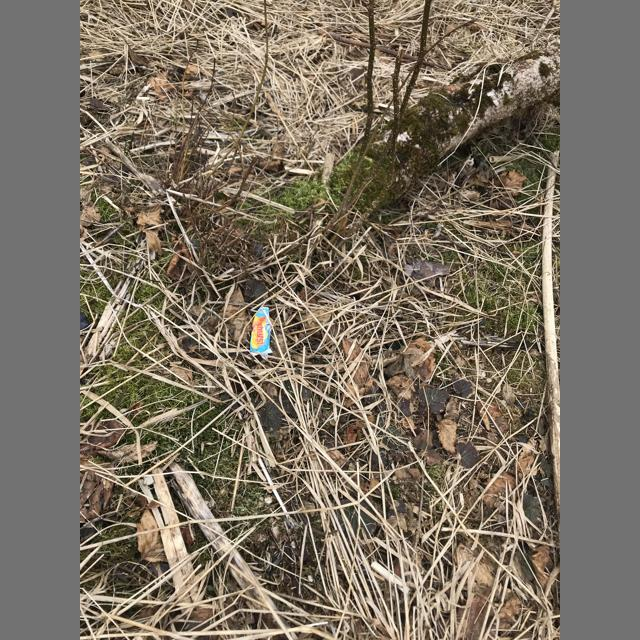litter: (250, 307, 272, 359)
